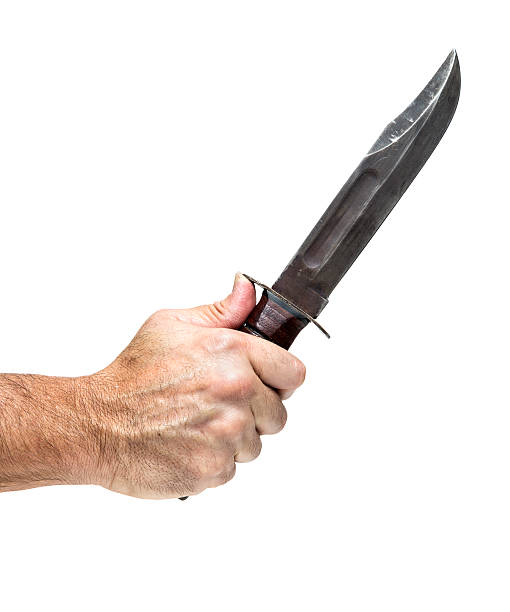knife: (236, 44, 464, 352)
